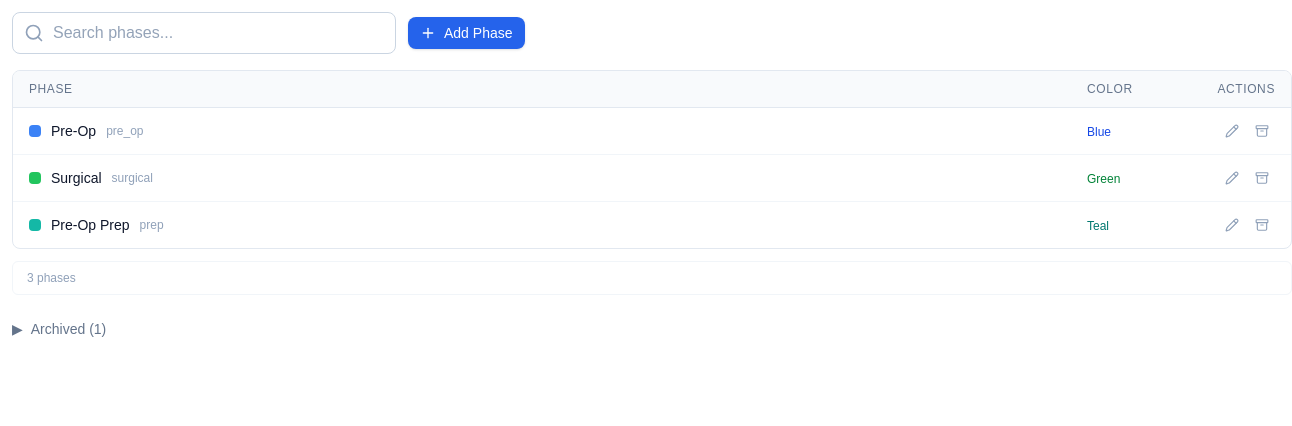
Test: PhaseLibrary › archived phases › expands archived section to show restore button
Click the button "▶ Archived (1)" at (59, 329), box [12,319,106,339]
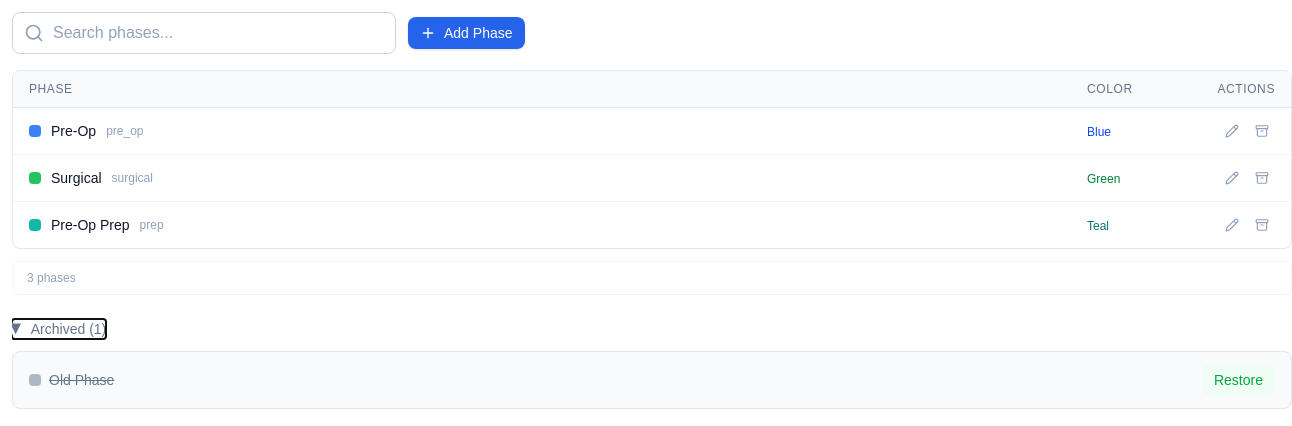
Result: the text "Old Phase" is shown at [49,370,114,390]
Result: the button "Restore" is shown at [1202,364,1275,396]
